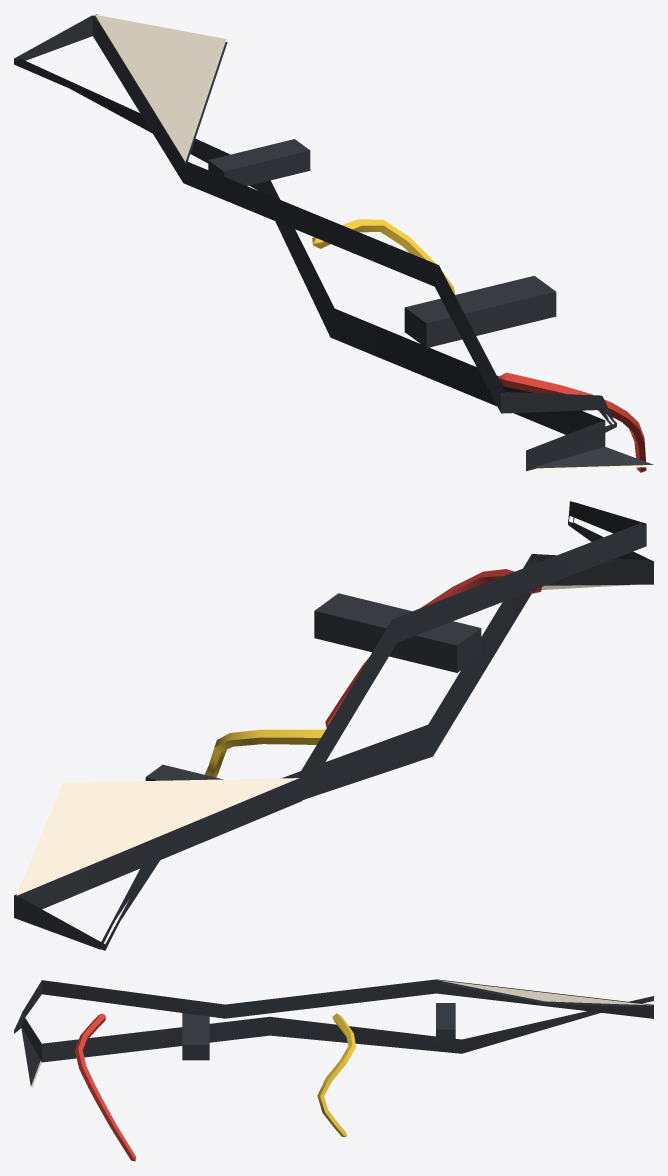
File: RotBordeAlaIzq.fbx
The picture shows the model from 3 angles, top to bottom: view 1: azimuth 30°, elevation 25°; view 2: azimuth 150°, elevation 25°; view 3: azimuth 270°, elevation 25°; orthographic projection. The views are drawn at different scales.
Visible parts, largest first — view 1: RotBordeAlaIzq; view 2: RotBordeAlaIzq; view 3: RotBordeAlaIzq.
Part boxes in pixels (x1=…): RotBordeAlaIzq: x1=14, y1=14, x2=653, y2=472; RotBordeAlaIzq: x1=14, y1=501, x2=653, y2=950; RotBordeAlaIzq: x1=14, y1=979, x2=653, y2=1161.
Bounding box in the file's own units: 2.04 × 1.89 × 8.2.
1 material, 1 textured.
